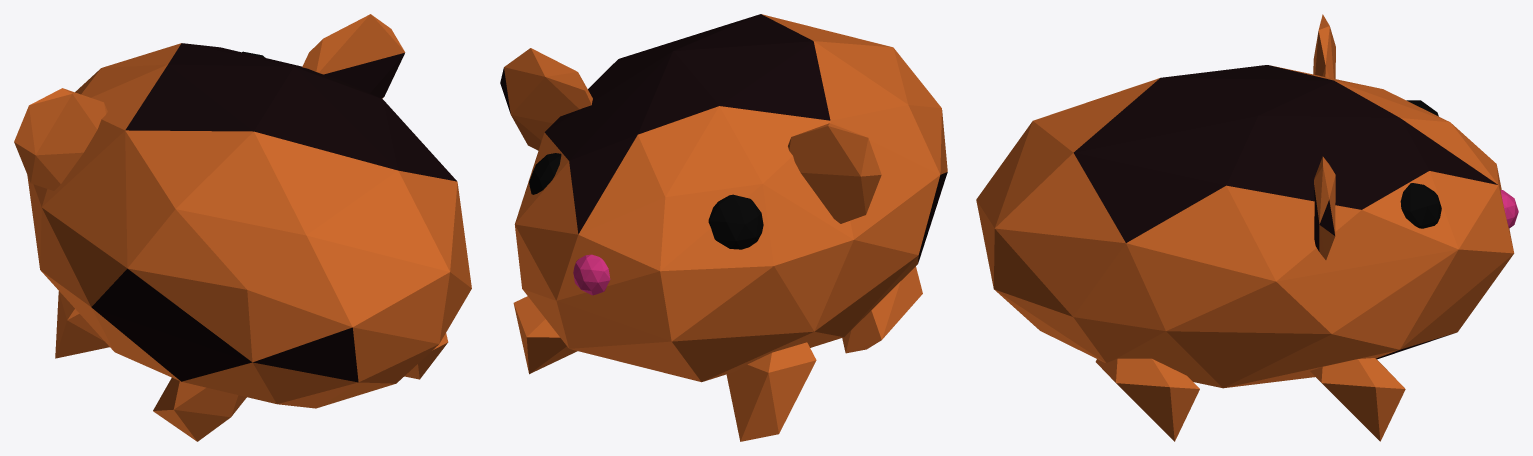
File: krecek.obj
The picture shows the model from 3 angles, left to right: view 1: azimuth 30°, elevation 25°; view 2: azimuth 150°, elevation 25°; view 3: azimuth 270°, elevation 25°; orthographic projection. The views are drawn at different scales.
Visible parts, largest first — view 1: Icosphere.003; view 2: Icosphere.003; view 3: Icosphere.003.
Part boxes in pixels (x1,y1,x2,y2): Icosphere.003: [14, 14, 471, 441]; Icosphere.003: [500, 14, 947, 441]; Icosphere.003: [976, 14, 1518, 441].
Size of the model in its own units: 2.48 by 1.87 by 3.14.
